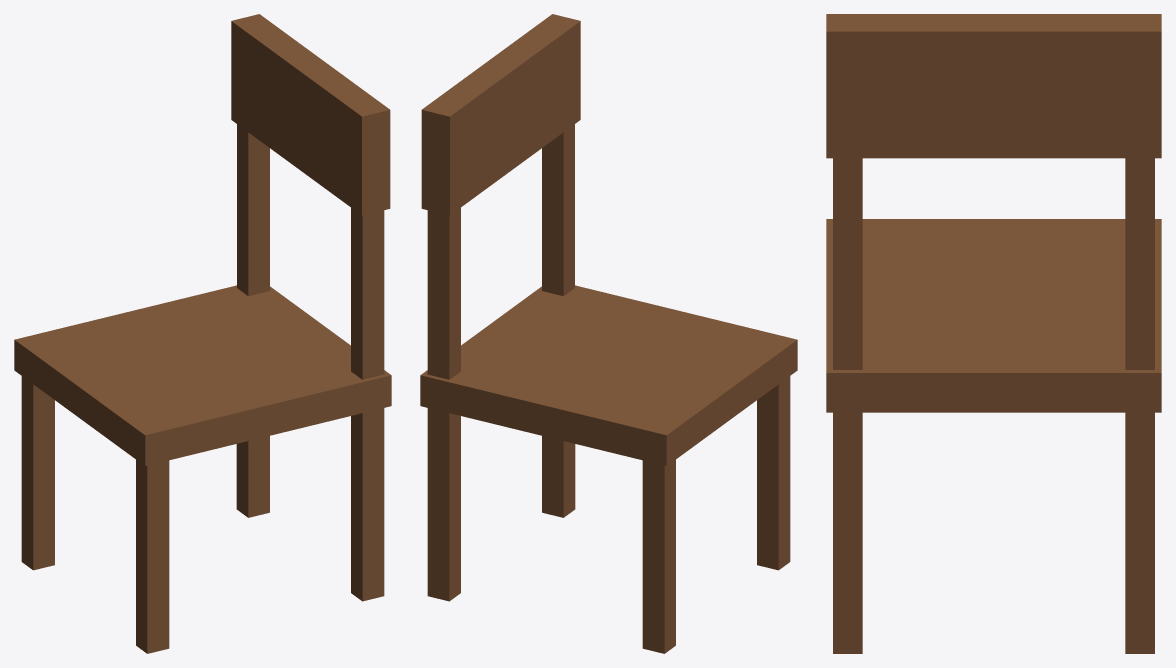
File: Chair.fbx
3 views of the same model, side by side, from view 1: azimuth 30°, elevation 25°; view 2: azimuth 150°, elevation 25°; view 3: azimuth 270°, elevation 25° (orthographic). The views are drawn at different scales.
Visible parts, largest first — view 1: Chair; view 2: Chair; view 3: Chair.
Part boxes in pixels (bbox=[...]): Chair: bbox=[14, 14, 391, 653]; Chair: bbox=[420, 14, 797, 653]; Chair: bbox=[826, 14, 1161, 653].
Size of the model in its own units: 118 by 128 by 242.
